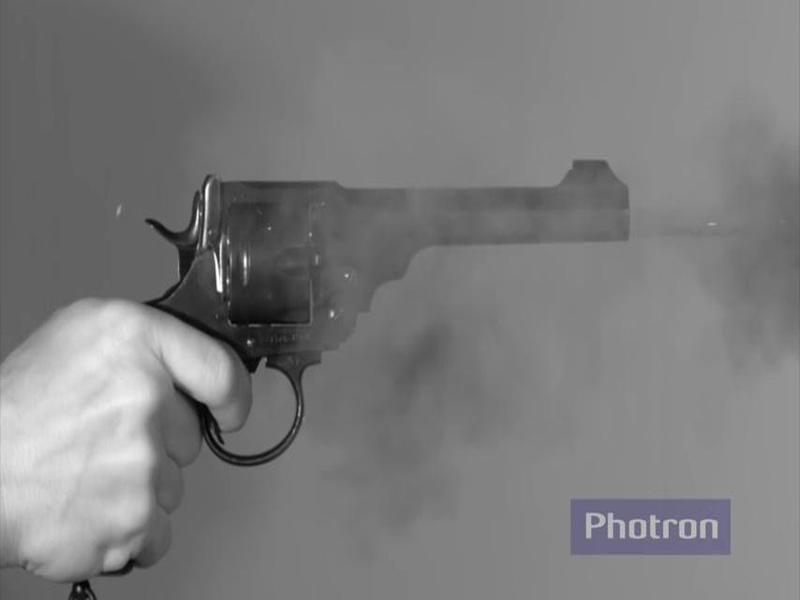Revolver: (113, 124, 651, 483)
